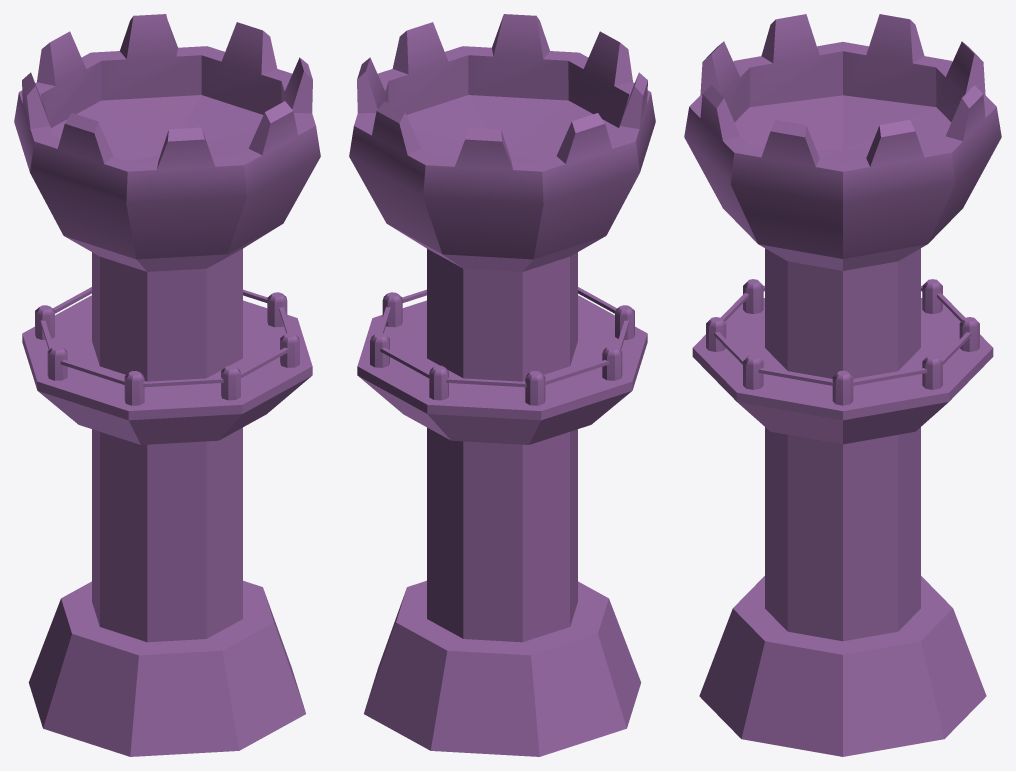
File: TowerBlockoutExportV1.fbx
3 views of the same model, side by side, from view 1: azimuth 30°, elevation 25°; view 2: azimuth 150°, elevation 25°; view 3: azimuth 270°, elevation 25° (orthographic).
Visible parts, largest first — view 1: CYLINDER3, CYLINDER2, CYLINDER4, CYLINDER5, CYLINDER14, CYLINDER10, CYLINDER18, CYLINDER17, CYLINDER16, CYLINDER12, CYLINDER13; view 2: CYLINDER3, CYLINDER2, CYLINDER4, CYLINDER5, CYLINDER14, CYLINDER13, CYLINDER11, CYLINDER17, CYLINDER15, CYLINDER12, CYLINDER10; view 3: CYLINDER3, CYLINDER2, CYLINDER4, CYLINDER5, CYLINDER14, CYLINDER12, CYLINDER15, CYLINDER16, CYLINDER13, CYLINDER10, CYLINDER11, CYLINDER18.
Boxes of the visible parts, <box> form: CYLINDER3: <box>14,14,320,271</box>; CYLINDER2: <box>92,249,242,642</box>; CYLINDER4: <box>28,580,305,756</box>; CYLINDER5: <box>22,295,312,444</box>; CYLINDER14: <box>40,287,291,387</box>; CYLINDER10: <box>124,371,144,405</box>; CYLINDER18: <box>221,365,240,400</box>; CYLINDER17: <box>47,346,67,380</box>; CYLINDER16: <box>280,333,299,367</box>; CYLINDER12: <box>267,292,287,327</box>; CYLINDER13: <box>35,305,54,339</box>; CYLINDER3: <box>349,14,655,271</box>; CYLINDER2: <box>427,249,577,642</box>; CYLINDER4: <box>364,580,641,756</box>; CYLINDER5: <box>357,295,647,444</box>; CYLINDER14: <box>378,287,629,387</box>; CYLINDER13: <box>525,371,545,405</box>; CYLINDER11: <box>429,365,448,400</box>; CYLINDER17: <box>602,346,622,380</box>; CYLINDER15: <box>370,333,389,367</box>; CYLINDER12: <box>382,292,402,327</box>; CYLINDER10: <box>615,305,634,339</box>; CYLINDER3: <box>684,14,1001,270</box>; CYLINDER2: <box>765,248,920,641</box>; CYLINDER4: <box>699,576,986,756</box>; CYLINDER5: <box>692,298,993,444</box>; CYLINDER14: <box>714,286,971,385</box>; CYLINDER12: <box>832,370,853,405</box>; CYLINDER15: <box>922,355,942,389</box>; CYLINDER16: <box>743,355,763,389</box>; CYLINDER13: <box>922,279,942,314</box>; CYLINDER10: <box>743,279,763,313</box>; CYLINDER11: <box>959,317,979,351</box>; CYLINDER18: <box>706,317,726,351</box>.
Bounding box in the file's own units: 2.27 × 4.95 × 2.27.
